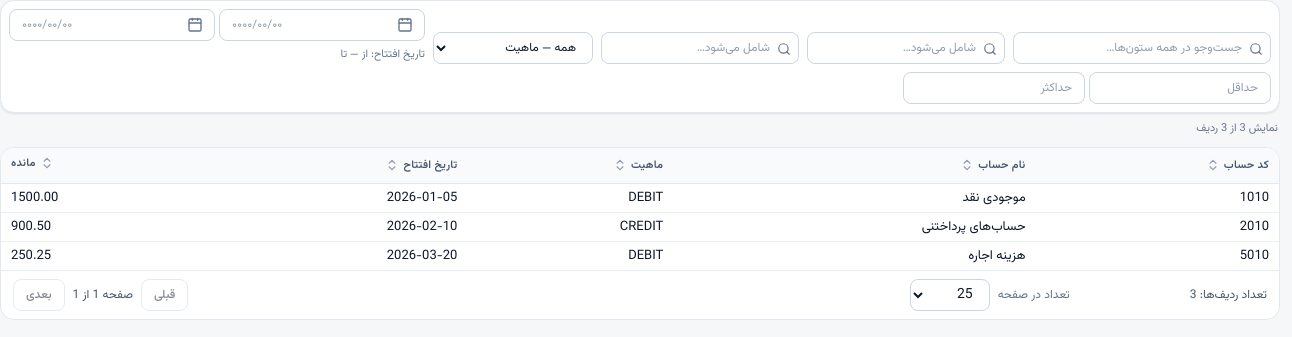
Test: DataTable client mode — column filters › narrows rows with the text and select filters
The width and height of the screenshot is (1292, 337).
Type "پرداختنی" into the search field named "نام حساب" at (700, 48), box top-left (601, 32), bottom-right (799, 64)
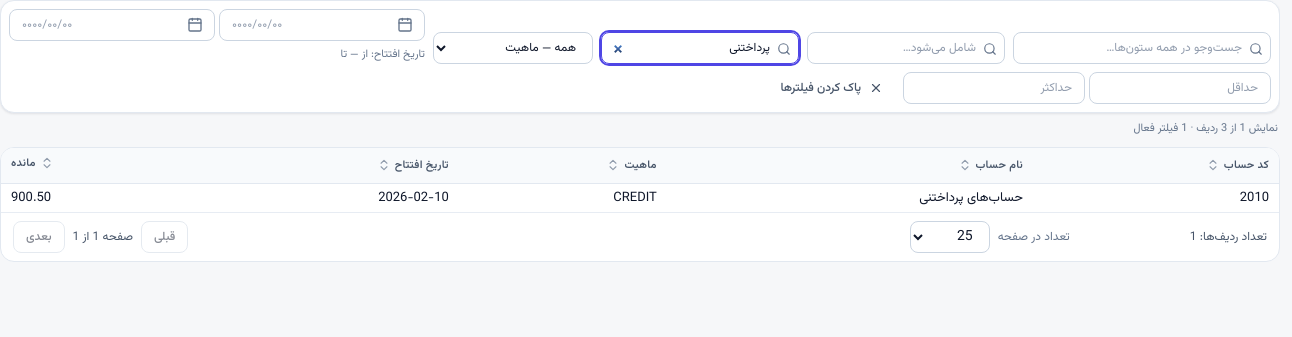
Check: the text "حساب‌های پرداختنی" is shown, box top-left (667, 184), bottom-right (1033, 212)
Check: the text "موجودی نقد" is gone
Clear the search field named "نام حساب" at (700, 48), box top-left (601, 32), bottom-right (799, 64)
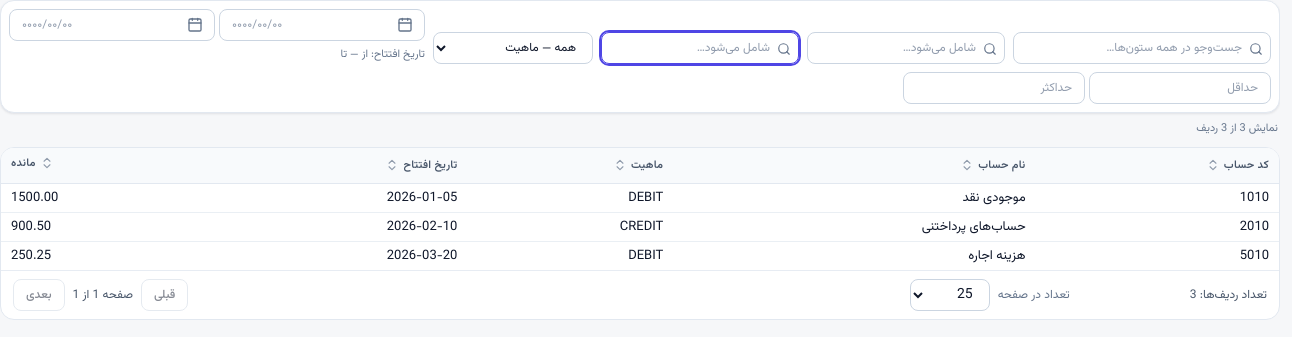
Check: the text "موجودی نقد" is shown, box top-left (673, 184), bottom-right (1036, 213)
Select "بدهکار" in the dropdown named "ماهیت" at (513, 48), box top-left (433, 32), bottom-right (593, 64)
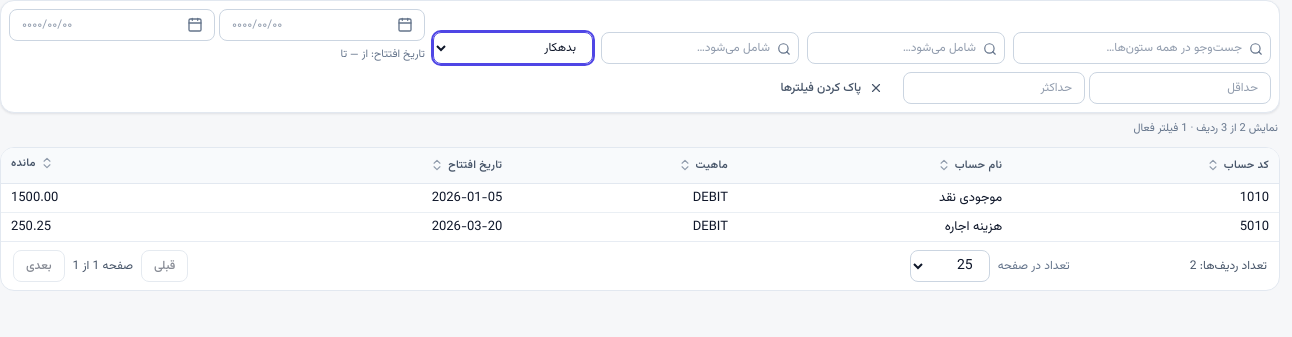
Check: the text "موجودی نقد" is shown, box top-left (738, 184), bottom-right (1012, 213)
Check: the text "حساب‌های پرداختنی" is gone
